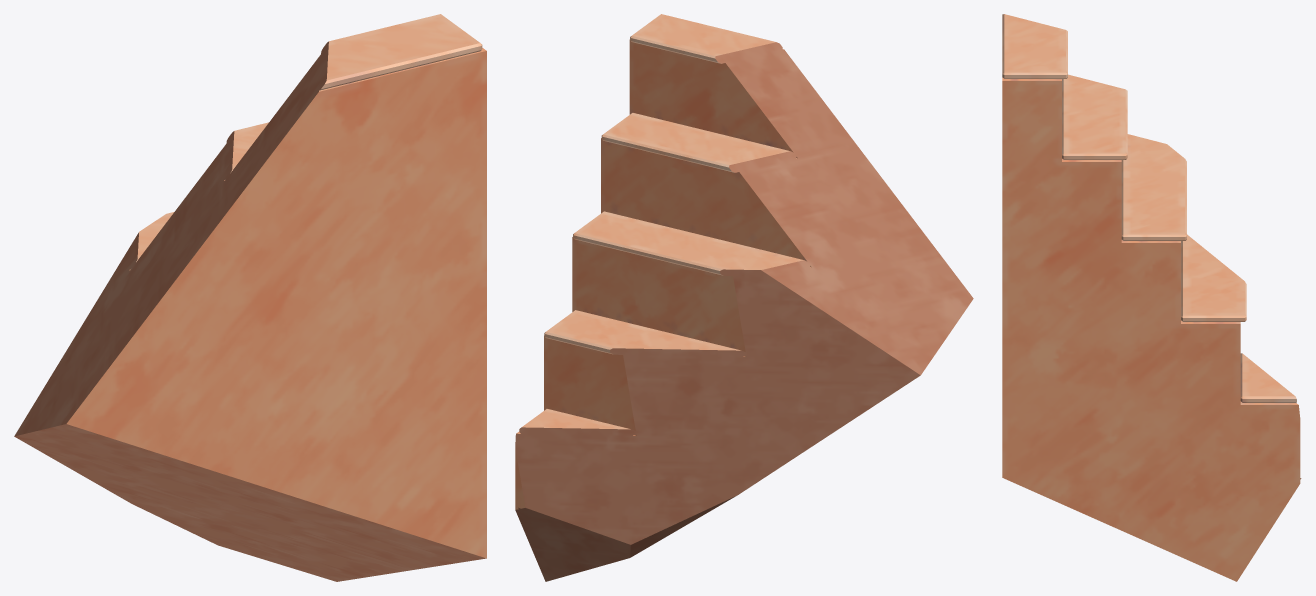
File: stairs_s05.fbx
The picture shows the model from 3 angles, left to right: view 1: azimuth 30°, elevation 25°; view 2: azimuth 150°, elevation 25°; view 3: azimuth 270°, elevation 25°; orthographic projection. The views are drawn at different scales.
Visible parts, largest first — view 1: stairs_s05; view 2: stairs_s05; view 3: stairs_s05.
Part boxes in pixels (left/top/right/bottom): stairs_s05: left=14, top=14, right=486, bottom=581; stairs_s05: left=515, top=14, right=973, bottom=581; stairs_s05: left=1002, top=14, right=1301, bottom=581.
Bounding box in the file's own units: 6.37 × 9.4 × 5.02.
